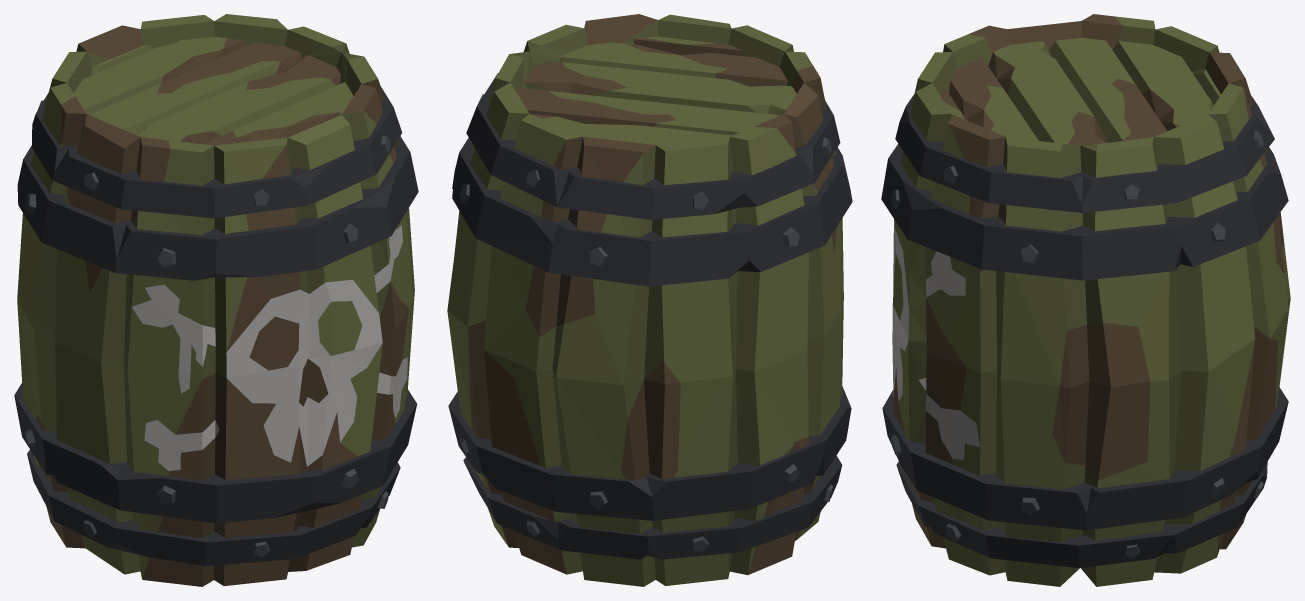
Rendered from SM_Prop_Barrel_07.fbx.
The picture shows the model from 3 angles, left to right: view 1: azimuth 30°, elevation 25°; view 2: azimuth 150°, elevation 25°; view 3: azimuth 270°, elevation 25°; orthographic projection.
Parts seen in each view (by area): view 1: SM_Prop_Barrel_07; view 2: SM_Prop_Barrel_07; view 3: SM_Prop_Barrel_07.
Boxes of the visible parts, bbox=[...] form: SM_Prop_Barrel_07: bbox=[14, 14, 418, 586]; SM_Prop_Barrel_07: bbox=[447, 14, 852, 586]; SM_Prop_Barrel_07: bbox=[881, 14, 1290, 586].
Bounding box in the file's own units: 83.78 × 99.51 × 84.81.
